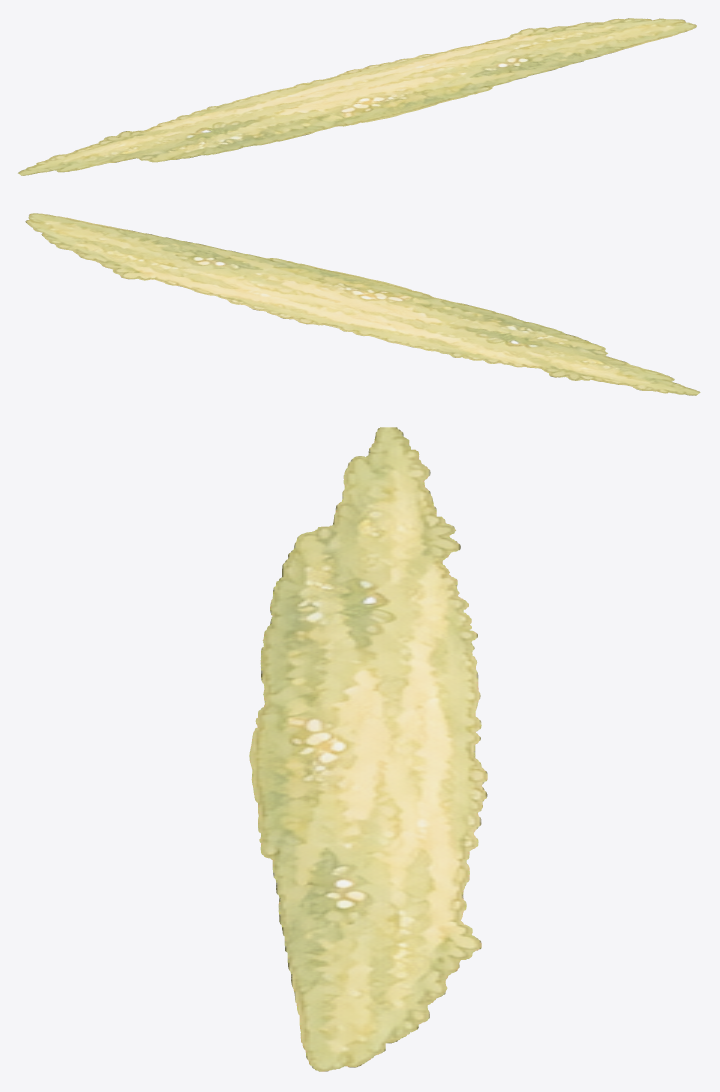
Rendered from garden_grass_patch.glb.
3 renders of one model, top to bottom at view 1: azimuth 30°, elevation 25°; view 2: azimuth 150°, elevation 25°; view 3: azimuth 270°, elevation 25°, orthographic. The views are drawn at different scales.
Visible parts, largest first — view 1: grass_patch / painted relief; view 2: grass_patch / painted relief; view 3: grass_patch / painted relief.
Boxes of the visible parts, bbox=[...] form: grass_patch / painted relief: bbox=[18, 18, 696, 175]; grass_patch / painted relief: bbox=[25, 213, 700, 395]; grass_patch / painted relief: bbox=[249, 427, 487, 1071].
Bounding box in the file's own units: 12 × 0.065 × 1.99.
Materials: 1 (1 with a texture image).
